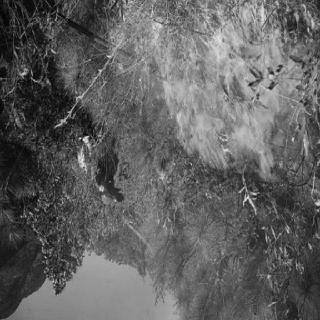Fire: (148, 5, 312, 207)
other: (99, 186, 113, 210), (76, 148, 86, 172)
